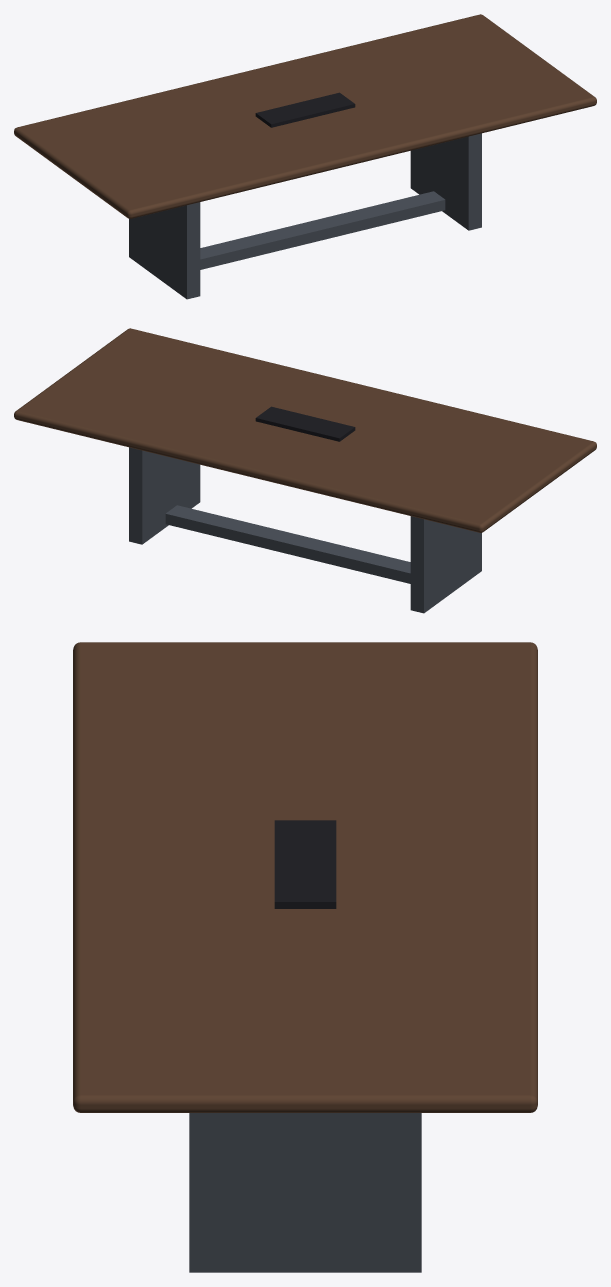
File: mesa-reuniao-longa.glb
3 views of the same model, one above another, from view 1: azimuth 30°, elevation 25°; view 2: azimuth 150°, elevation 25°; view 3: azimuth 270°, elevation 25° (orthographic). The views are drawn at different scales.
Visible parts, largest first — view 1: mesa-reuniao-longa_malha; view 2: mesa-reuniao-longa_malha; view 3: mesa-reuniao-longa_malha.
Boxes of the visible parts, <box> form: mesa-reuniao-longa_malha: <box>14,14,596,299</box>; mesa-reuniao-longa_malha: <box>14,328,596,613</box>; mesa-reuniao-longa_malha: <box>73,642,537,1272</box>.
Size of the model in its own units: 2.8 by 0.762 by 1.2.
